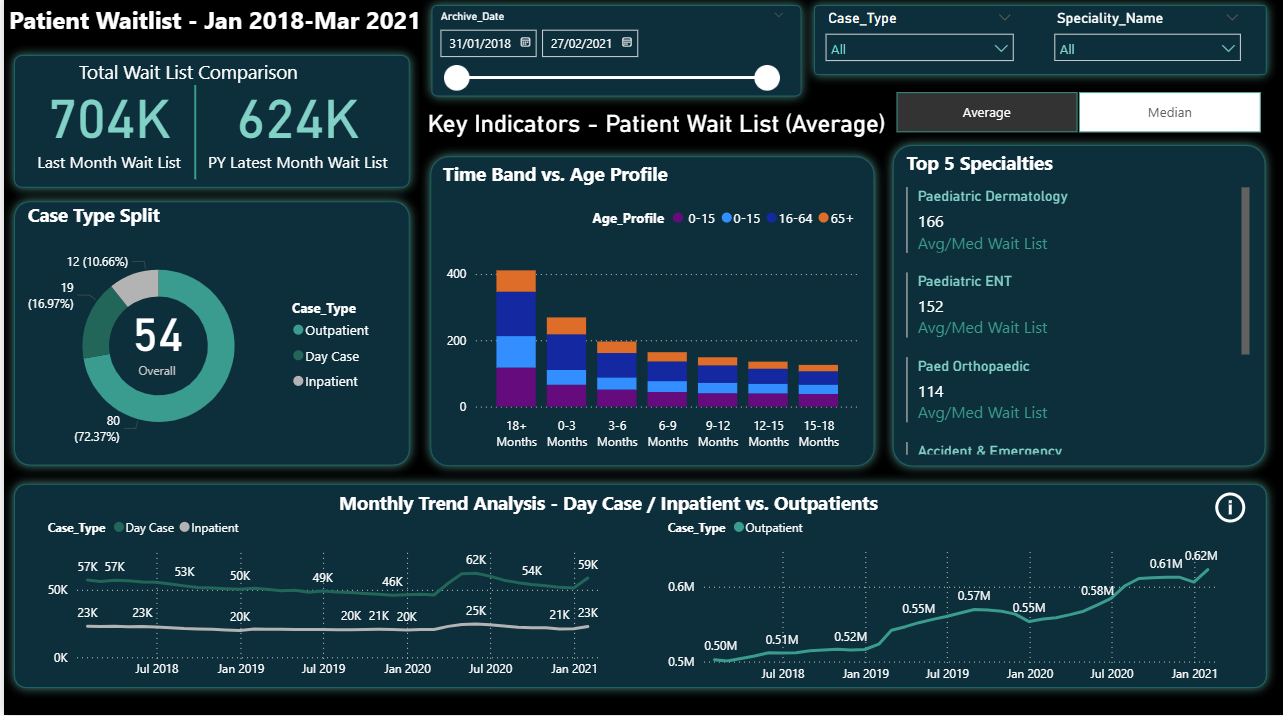

Layout of this report page (visuals, bound fields, positions):
{"tool":"powerbi","page":{"name":"Summary","canvas":[1280,720],"ordinal":0},"visuals":[{"type":"slicer","fields":{"Values":["Calculation Method.Cal Method"]},"box":[865.7,90,414.3,54.3],"z":0},{"type":"shape","box":[0,50,415.7,152.9],"z":1000},{"type":"card","fields":{"Values":["All_Data.Last Month Wait List"]},"box":[17.1,72.9,175.7,111.4],"z":2000},{"type":"card","fields":{"Values":["All_Data.PY Latest Month Wait List"]},"box":[197.1,72.9,192.9,111.4],"z":3000},{"type":"shape","box":[0,195.7,415.7,284.3],"z":4000},{"type":"donutChart","fields":{"Category":["All_Data.Case_Type"],"Y":["All_Data.Avg/Med Wait List"]},"box":[15.7,237.1,362.9,227.1],"z":5000},{"type":"shape","box":[0,478.6,1272.9,224.3],"z":6000},{"type":"card","fields":{"Values":["All_Data.No Right Left"]},"box":[721.4,541.4,448.6,122.9],"z":7000},{"type":"card","fields":{"Values":["All_Data.No Data Left"]},"box":[70,544.3,448.6,122.9],"z":8000},{"type":"lineChart","fields":{"Category":["All_Data.Archive_Date"],"Y":["Sum(All_Data.Total)"],"Series":["All_Data.Case_Type"]},"box":[38.6,512.9,574.3,180],"z":9000},{"type":"lineChart","fields":{"Category":["All_Data.Archive_Date"],"Y":["Sum(All_Data.Total)"],"Series":["All_Data.Case_Type"]},"box":[658.6,512.9,574.3,184.3],"z":10000},{"type":"shape","box":[415.7,151.4,464.3,330],"z":11000},{"type":"columnChart","fields":{"Y":["All_Data.Avg/Med Wait List"],"Category":["All_Data.Time_Bands"],"Series":["All_Data.Age_Profile"]},"box":[437.1,202.9,422.9,260],"z":12000},{"type":"shape","box":[878.6,140,392.9,341.4],"z":13000},{"type":"multiRowCard","fields":{"Values":["All_Data.Avg/Med Wait List","All_Data.Speciality_Name"]},"box":[897.1,187.1,352.9,277.1],"z":14000},{"type":"textbox","box":[0,4.3,424.3,80],"z":15000},{"type":"shape","box":[418,0,390,111.4],"z":16000},{"type":"slicer","fields":{"Values":["All_Data.Archive_Date"]},"box":[423.7,10,368.6,95.7],"z":17000},{"type":"shape","box":[800,0,472.9,90],"z":18000},{"type":"slicer","fields":{"Values":["All_Data.Case_Type"]},"box":[811.4,10,208.6,80],"z":19000},{"type":"slicer","fields":{"Values":["All_Data.Speciality_Name"]},"box":[1040,10,207.1,80],"z":20000},{"type":"card","fields":{"Values":["All_Data.Avg/Med Wait List"]},"box":[87.1,277.1,131.4,130],"z":21000},{"type":"shape","box":[41.4,90,300,94.3],"z":22000},{"type":"textbox","box":[70,58.6,242.9,44.3],"z":23000},{"type":"textbox","box":[18.6,202.9,242.9,44.3],"z":24000},{"type":"textbox","box":[434.3,161.4,242.9,44.3],"z":25000},{"type":"textbox","box":[330,490,657.1,45.7],"z":26000},{"type":"textbox","box":[897.1,150,230,45.7],"z":27000},{"type":"card","fields":{"Values":["All_Data.Dynamic Title"]},"box":[378.6,100,547.1,55.7],"z":28000},{"type":"actionButton","box":[1206.2,492.5,41.2,40],"z":29000}]}

Visuals, with their boxes in screenshot pixels (x1, y1, x2, y2), scaled from the page's 1280x720 canvas onto the 1283x716 screenshot:
slicer - Calculation Method.Cal Method: [x1=868, y1=90, x2=1282, y2=143]
shape: [x1=0, y1=50, x2=417, y2=202]
card - All_Data.Last Month Wait List: [x1=17, y1=72, x2=193, y2=183]
card - All_Data.PY Latest Month Wait List: [x1=198, y1=72, x2=391, y2=183]
shape: [x1=0, y1=195, x2=417, y2=477]
donutChart - All_Data.Case_Type x All_Data.Avg/Med Wait List: [x1=16, y1=236, x2=379, y2=462]
shape: [x1=0, y1=476, x2=1276, y2=699]
card - All_Data.No Right Left: [x1=723, y1=538, x2=1173, y2=661]
card - All_Data.No Data Left: [x1=70, y1=541, x2=520, y2=663]
lineChart - All_Data.Archive_Date x Sum(All_Data.Total): [x1=39, y1=510, x2=614, y2=689]
lineChart - All_Data.Archive_Date x Sum(All_Data.Total): [x1=660, y1=510, x2=1236, y2=693]
shape: [x1=417, y1=151, x2=882, y2=479]
columnChart - All_Data.Avg/Med Wait List x All_Data.Time_Bands: [x1=438, y1=202, x2=862, y2=460]
shape: [x1=881, y1=139, x2=1274, y2=479]
multiRowCard - All_Data.Avg/Med Wait List x All_Data.Speciality_Name: [x1=899, y1=186, x2=1253, y2=462]
textbox: [x1=0, y1=4, x2=425, y2=84]
shape: [x1=419, y1=0, x2=810, y2=111]
slicer - All_Data.Archive_Date: [x1=425, y1=10, x2=794, y2=105]
shape: [x1=802, y1=0, x2=1276, y2=90]
slicer - All_Data.Case_Type: [x1=813, y1=10, x2=1022, y2=90]
slicer - All_Data.Speciality_Name: [x1=1042, y1=10, x2=1250, y2=90]
card - All_Data.Avg/Med Wait List: [x1=87, y1=276, x2=219, y2=405]
shape: [x1=41, y1=90, x2=342, y2=183]
textbox: [x1=70, y1=58, x2=314, y2=102]
textbox: [x1=19, y1=202, x2=262, y2=246]
textbox: [x1=435, y1=161, x2=679, y2=205]
textbox: [x1=331, y1=487, x2=989, y2=533]
textbox: [x1=899, y1=149, x2=1130, y2=195]
card - All_Data.Dynamic Title: [x1=379, y1=99, x2=928, y2=155]
actionButton: [x1=1209, y1=490, x2=1250, y2=530]
